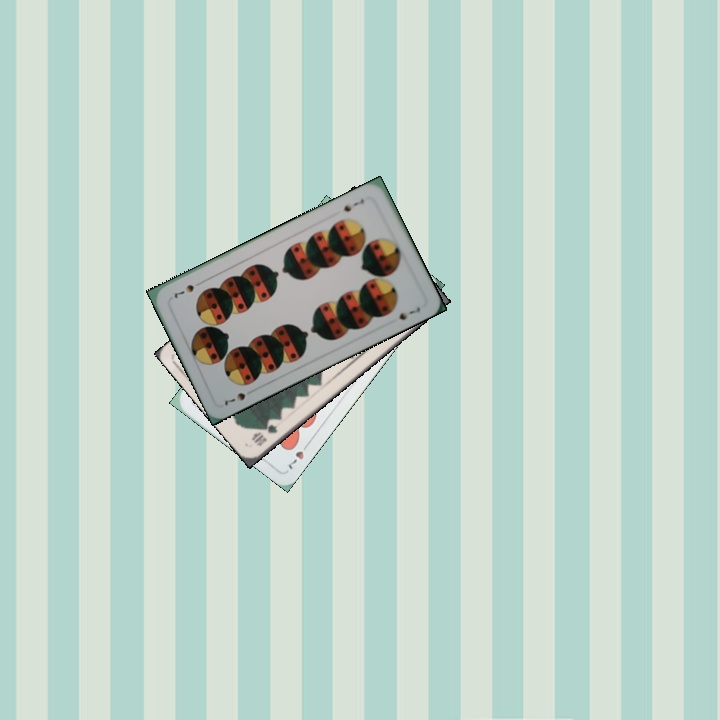G10: (248, 420, 280, 448)
H7: (284, 438, 313, 472)
S7: (221, 388, 248, 408), (340, 195, 367, 214)
